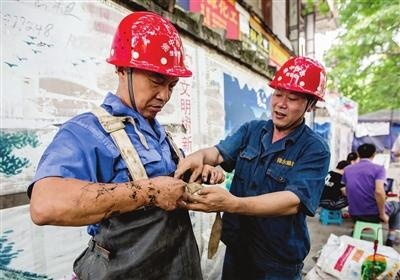none: (356, 141, 377, 164)
red: (110, 10, 187, 119), (270, 54, 327, 132)
